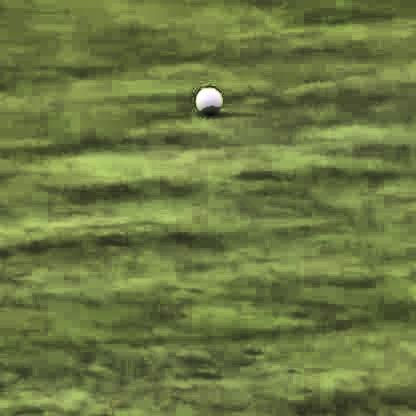golfball: (194, 84, 219, 112)
